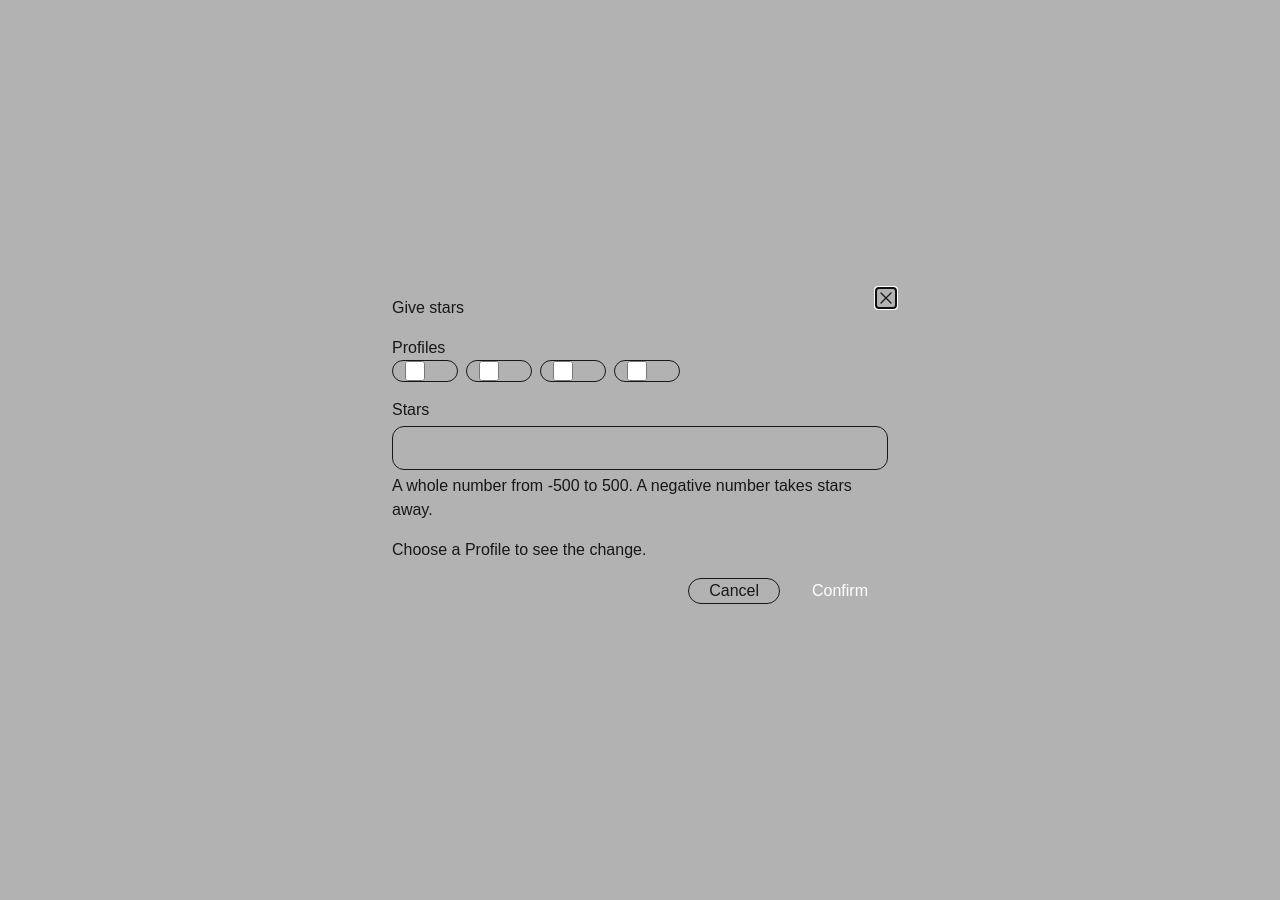
Test: GiveStarsSheet › the Profiles (FR-414, FR-434) › asks for a Profile before anything is sent
In the number field labelled "Stars": (640, 448) [392,426,888,470], type "5"
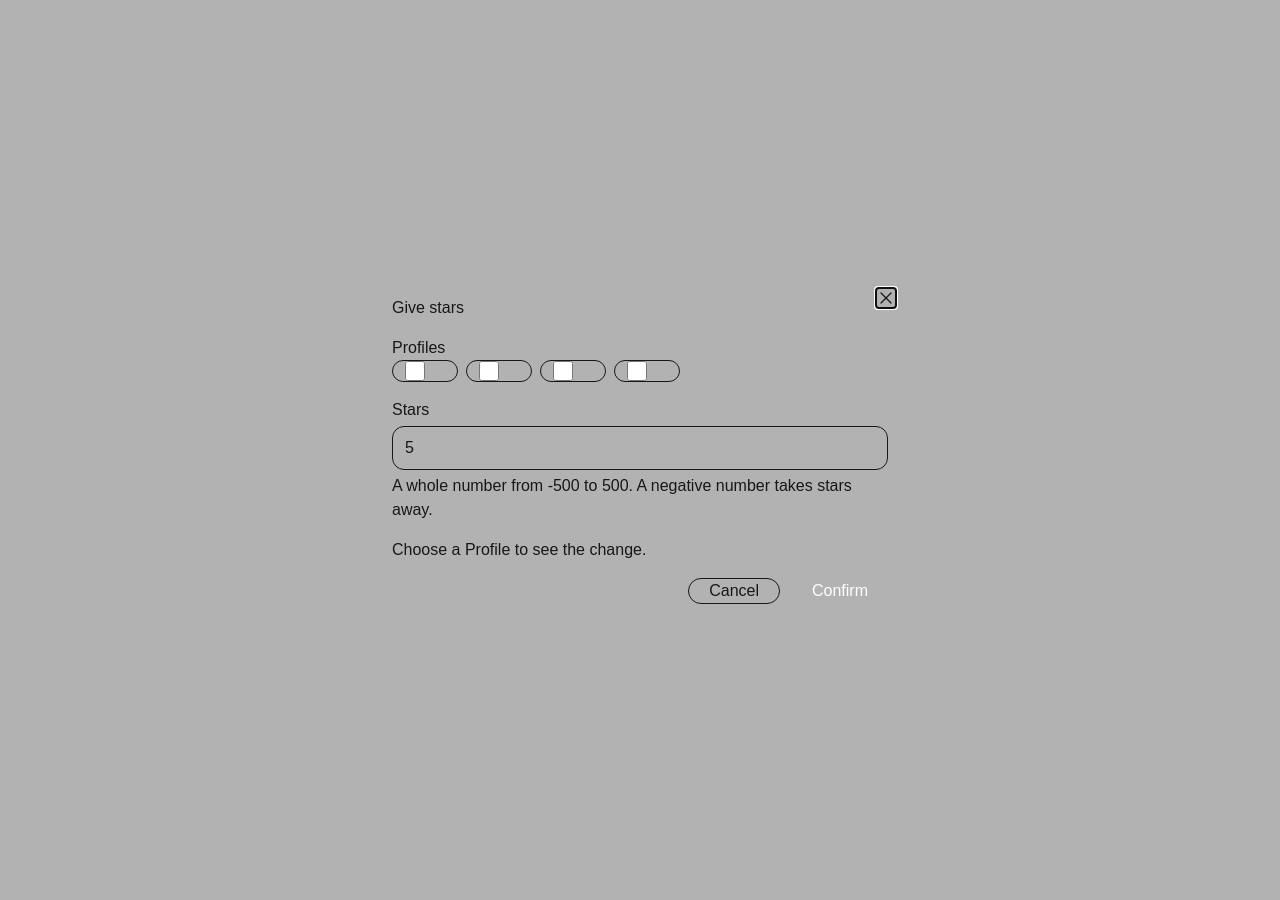
Click the button "Confirm": (840, 591) [792,578,888,604]
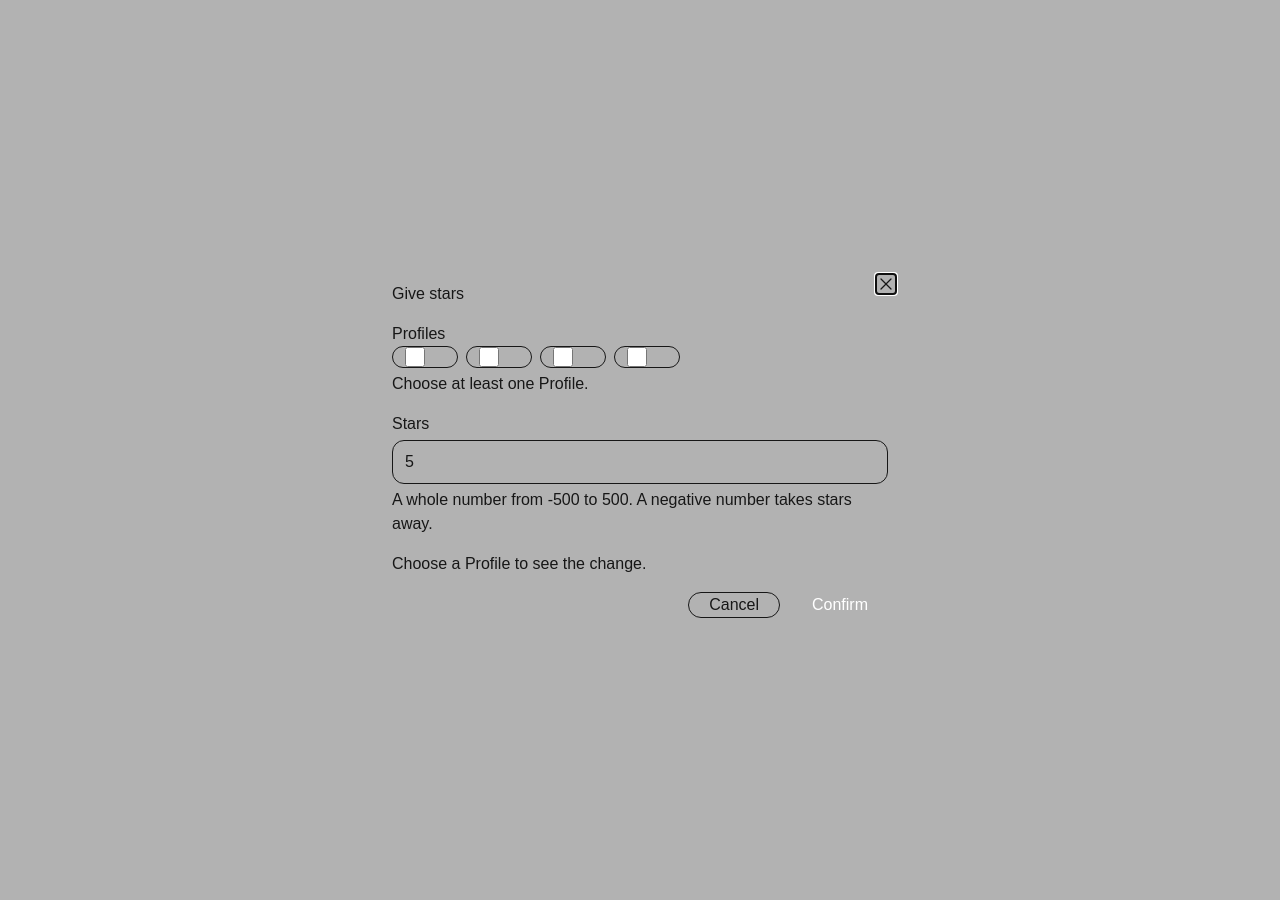
Check: the message reads "Choose at least one Profile.", box [392,375,589,392]
